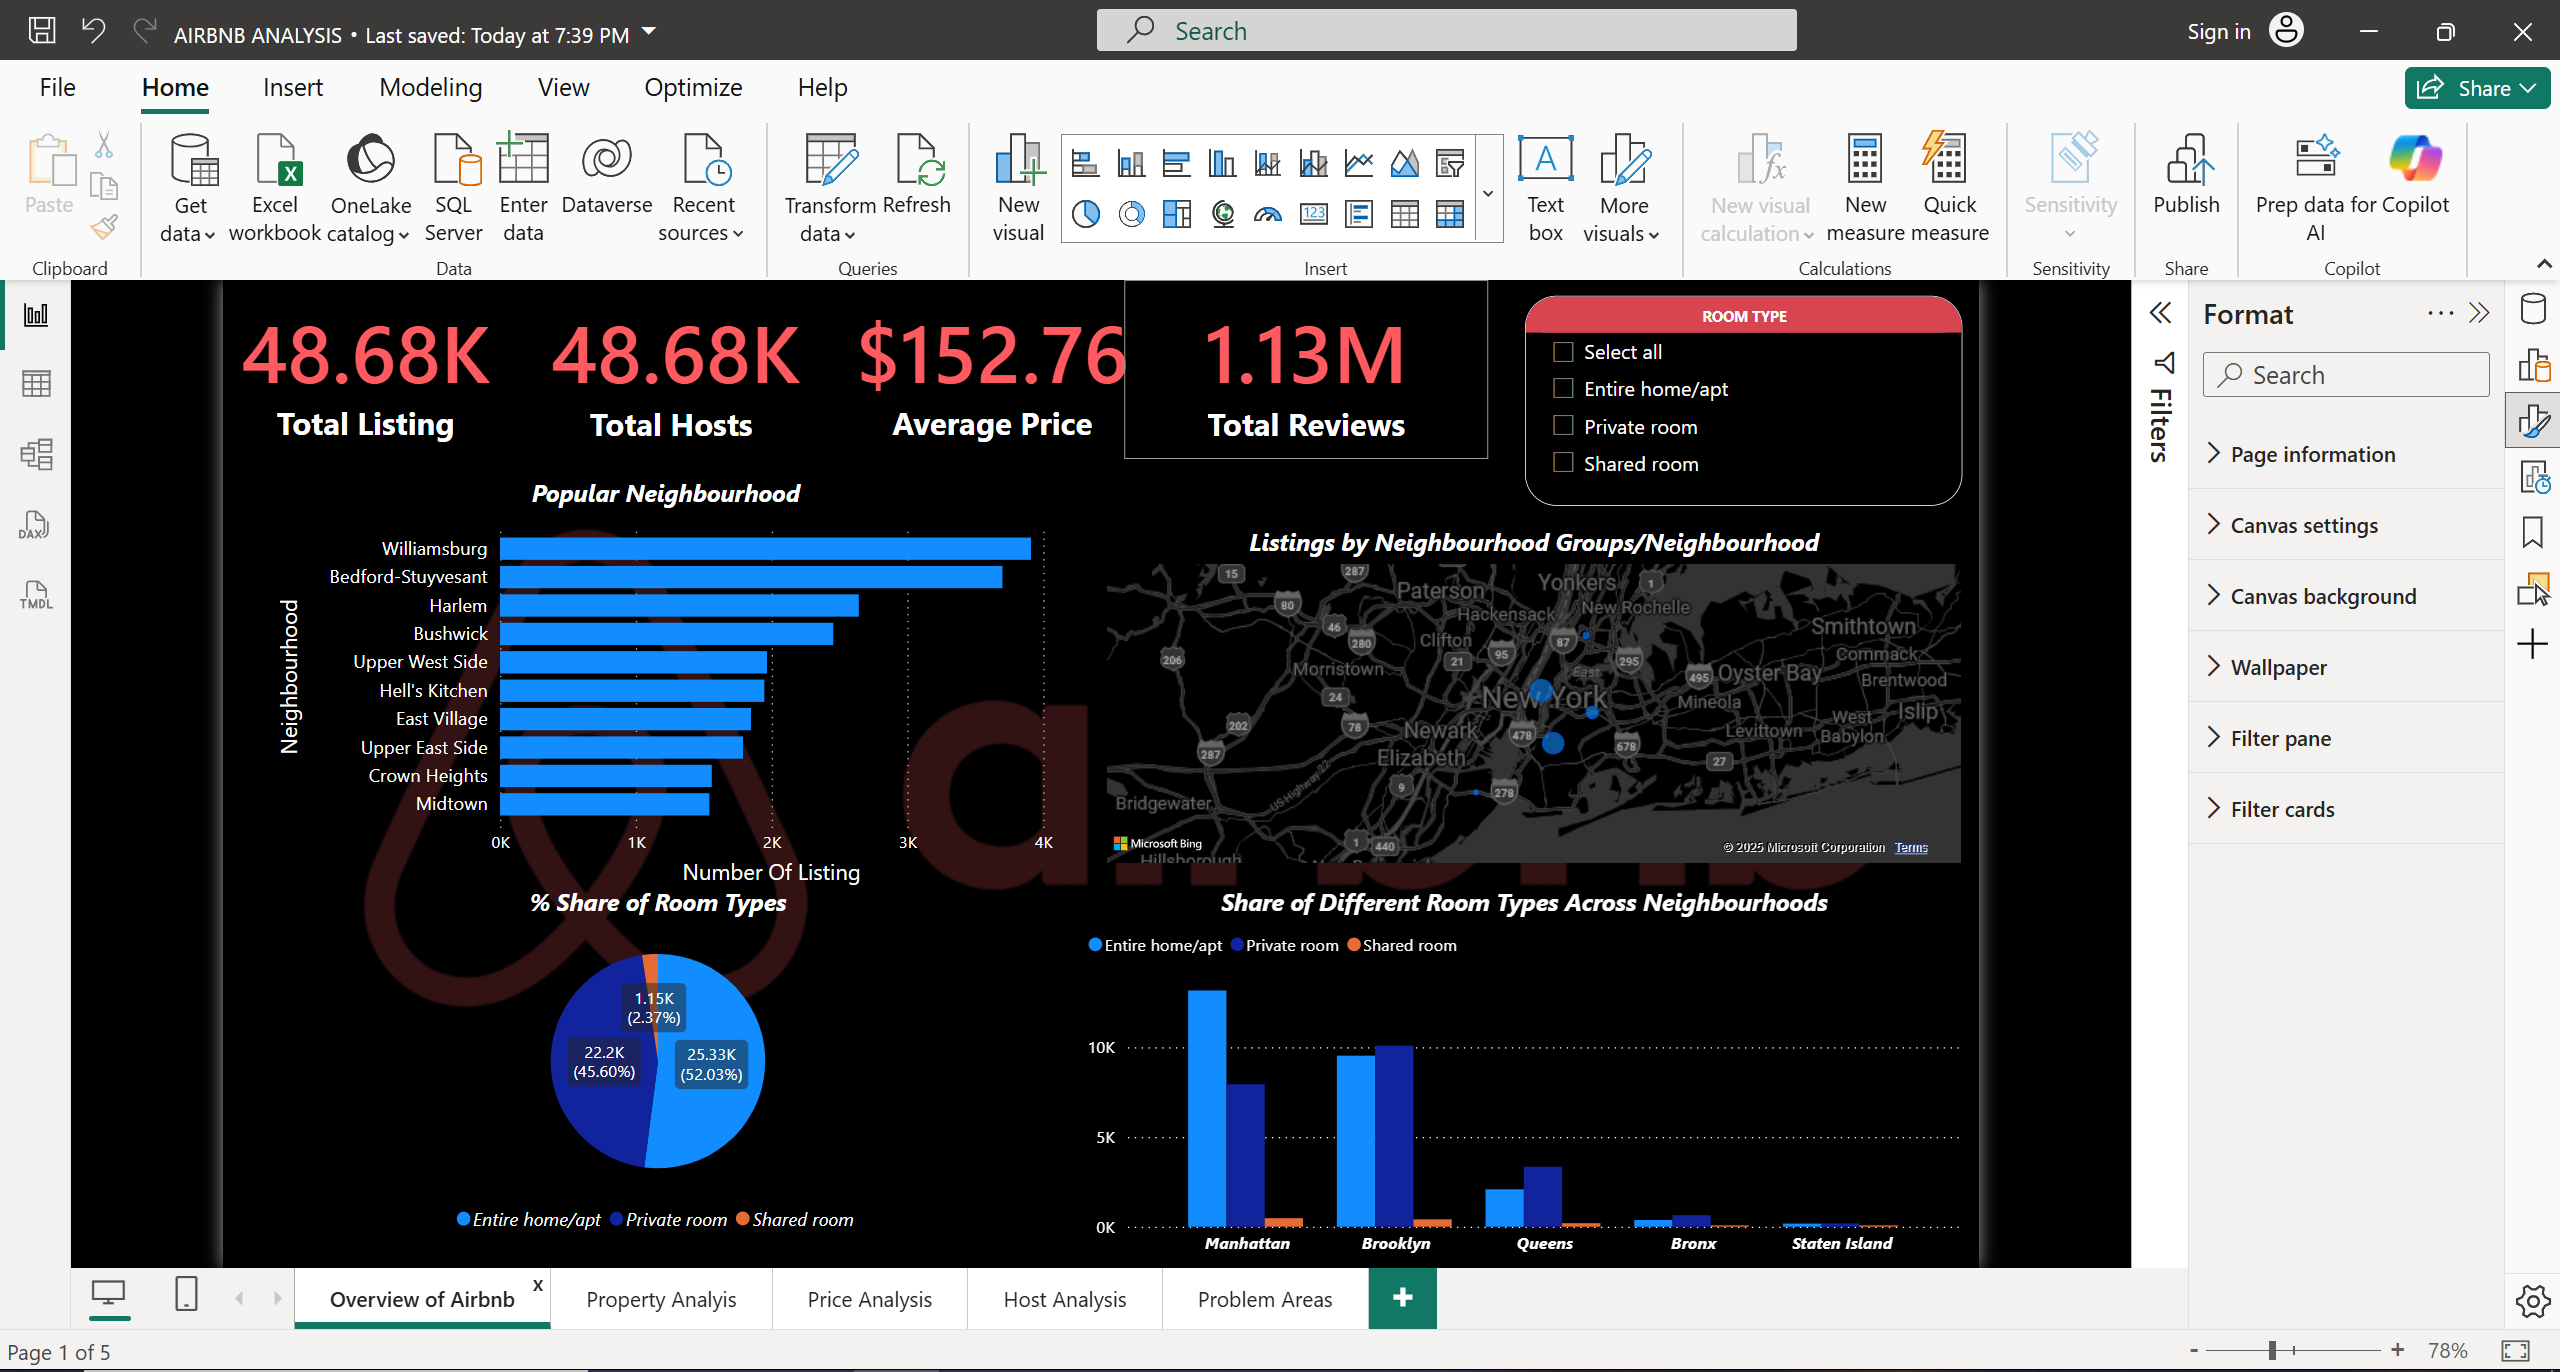

This screenshot's page, from the dashboard's own definition file:
{"tool":"powerbi","page":{"name":"Overview of Airbnb","canvas":[1280,720],"ordinal":0},"visuals":[{"type":"card","fields":{"Values":["Count(AirBnb Data.id)"]},"box":[0,0,208.1,129.7],"z":0},{"type":"card","fields":{"Values":["CountNonNull(AirBnb Data.host_id)"]},"box":[225.8,0,207.9,130.1],"z":1000},{"type":"card","fields":{"Values":["Avg(AirBnb Data.price)"]},"box":[434.1,0,254.3,129.7],"z":2000},{"type":"card","fields":{"Values":["Sum(AirBnb Data.number_of_reviews)"]},"box":[657,0,265.3,130.1],"z":3000},{"type":"barChart","title":"Popular Neighbourhood","fields":{"Y":["CountNonNull(AirBnb Data.id)"],"Category":["AirBnb Data.neighbourhood"]},"box":[43.4,139,574,302.3],"z":4000},{"type":"map","title":"Listings by Neighbourhood Groups/Neighbourhood","fields":{"Y":["Avg(AirBnb Data.latitude)"],"X":["Avg(AirBnb Data.longitude)"],"Category":["AirBnb Data.neighbourhood_group","AirBnb Data.neighbourhood"],"Size":["CountNonNull(AirBnb Data.host_id)"]},"box":[639.6,178.5,633.2,251.7],"z":5000},{"type":"slicer","title":"ROOM TYPE","fields":{"Values":["AirBnb Data.room_type"]},"box":[949.1,11.5,318.9,153.1],"z":6000},{"type":"pieChart","title":"% Share of Room Types","fields":{"Category":["AirBnb Data.room_type"],"Y":["CountNonNull(AirBnb Data.id)"]},"box":[24.4,441.8,585.7,262],"z":7000},{"type":"clusteredColumnChart","title":"Share of Different Room Types Across Neighbourhoods","fields":{"Category":["AirBnb Data.neighbourhood_group"],"Y":["CountNonNull(AirBnb Data.id)"],"Series":["AirBnb Data.room_type"]},"box":[625.5,441.8,647.3,278.7],"z":8000}]}

Visuals, with their boxes on the page's 1280x720 design canvas (x1, y1, x2, y2). These are canvas units, not pixel positions in the 2560x1372 screenshot, which may show the page scaled, cropped or inside an application window:
card - Count(AirBnb Data.id): [0,0,208,130]
card - CountNonNull(AirBnb Data.host_id): [226,0,434,130]
card - Avg(AirBnb Data.price): [434,0,688,130]
card - Sum(AirBnb Data.number_of_reviews): [657,0,922,130]
"Popular Neighbourhood" barChart: [43,139,617,441]
"Listings by Neighbourhood Groups/Neighbourhood" map: [640,178,1273,430]
"ROOM TYPE" slicer: [949,12,1268,165]
"% Share of Room Types" pieChart: [24,442,610,704]
"Share of Different Room Types Across Neighbourhoods" clusteredColumnChart: [626,442,1273,720]
